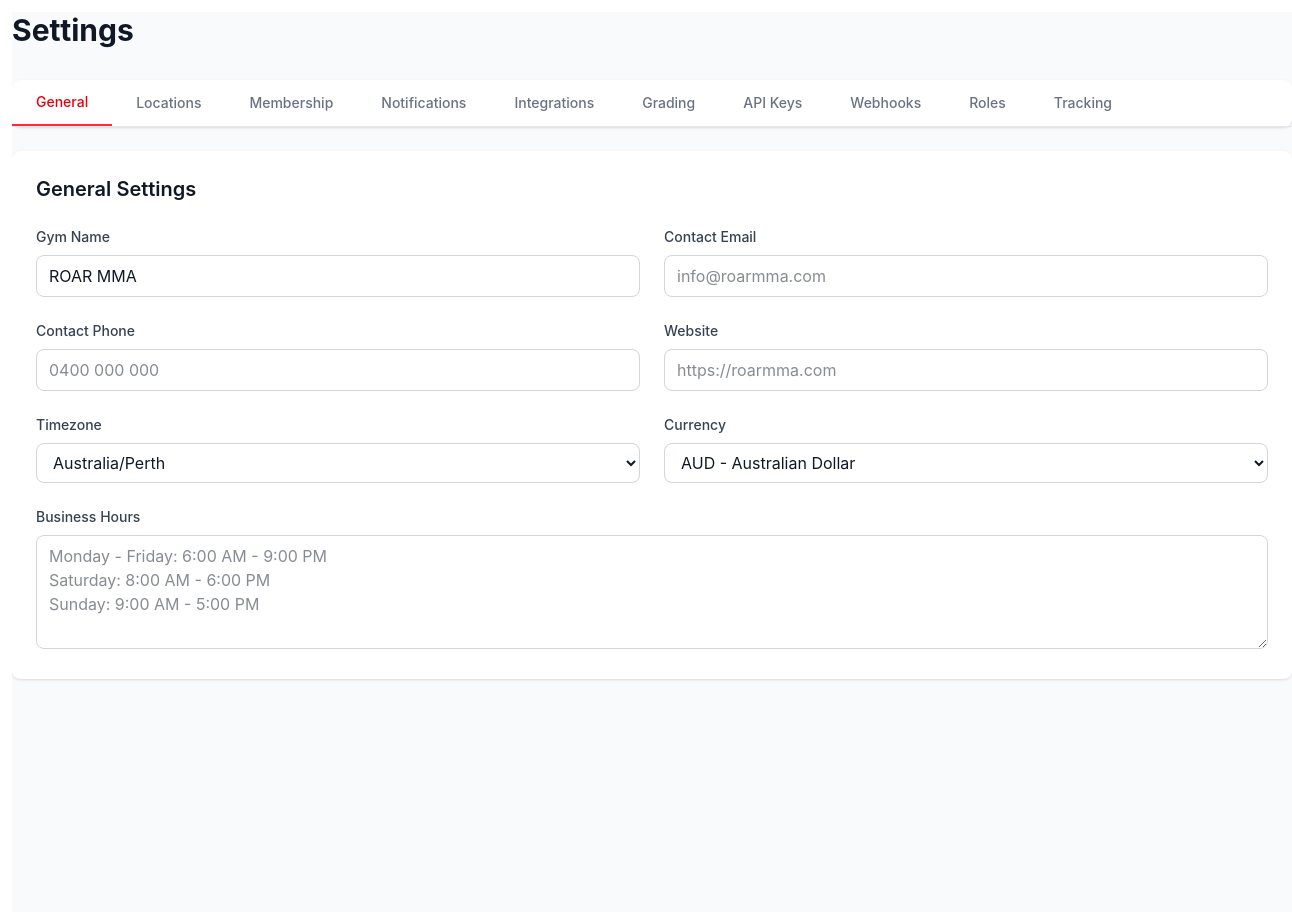
Scenario: Settings Page › switches to Locations tab and shows location entries
Click the button "Locations": (169, 103) [112,80,226,126]
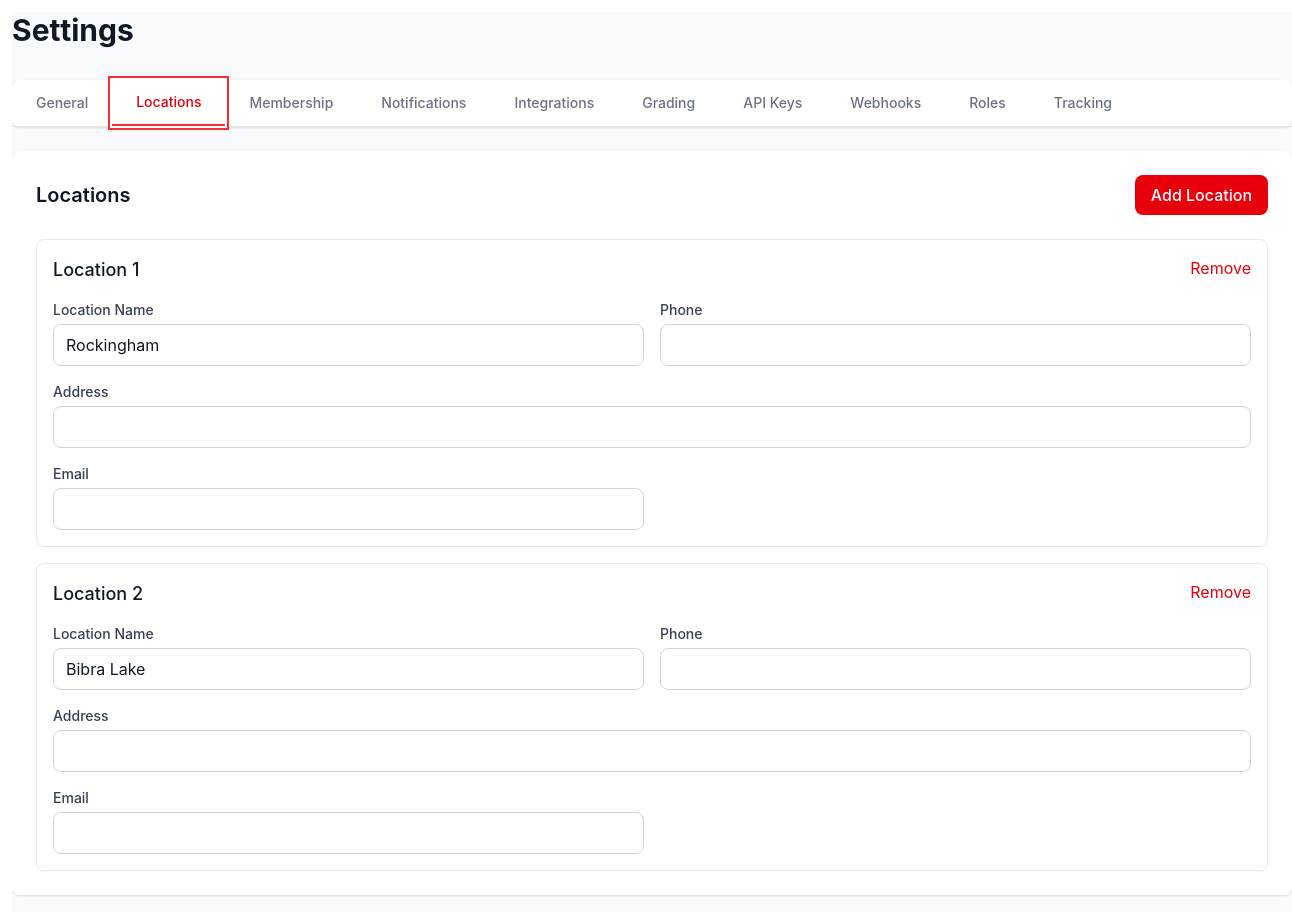
Check: the 1st field showing "Rockingham" is shown, box [53,324,644,366]
Check: the 5th field showing "Bibra Lake" is shown, box [53,648,644,690]
